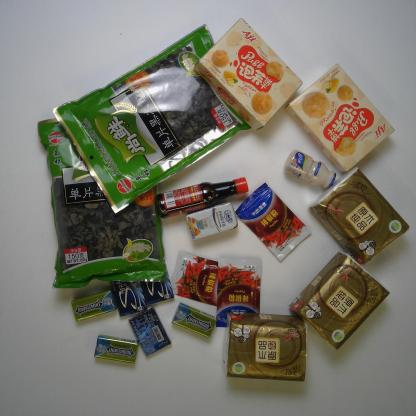Dessert: (192, 16, 304, 134), (284, 62, 395, 176)
Dried Food: (50, 24, 262, 216), (37, 114, 169, 287)
Gum: (128, 307, 171, 358), (107, 264, 147, 317), (90, 331, 144, 367), (171, 299, 217, 340), (138, 255, 174, 306), (68, 289, 121, 322)
Milk: (282, 147, 342, 192), (183, 201, 244, 242)
Seasoner: (233, 178, 314, 260), (155, 176, 250, 220), (214, 250, 267, 327), (169, 249, 233, 308)
Tissue: (288, 248, 392, 352), (309, 163, 409, 268), (222, 311, 309, 382)
